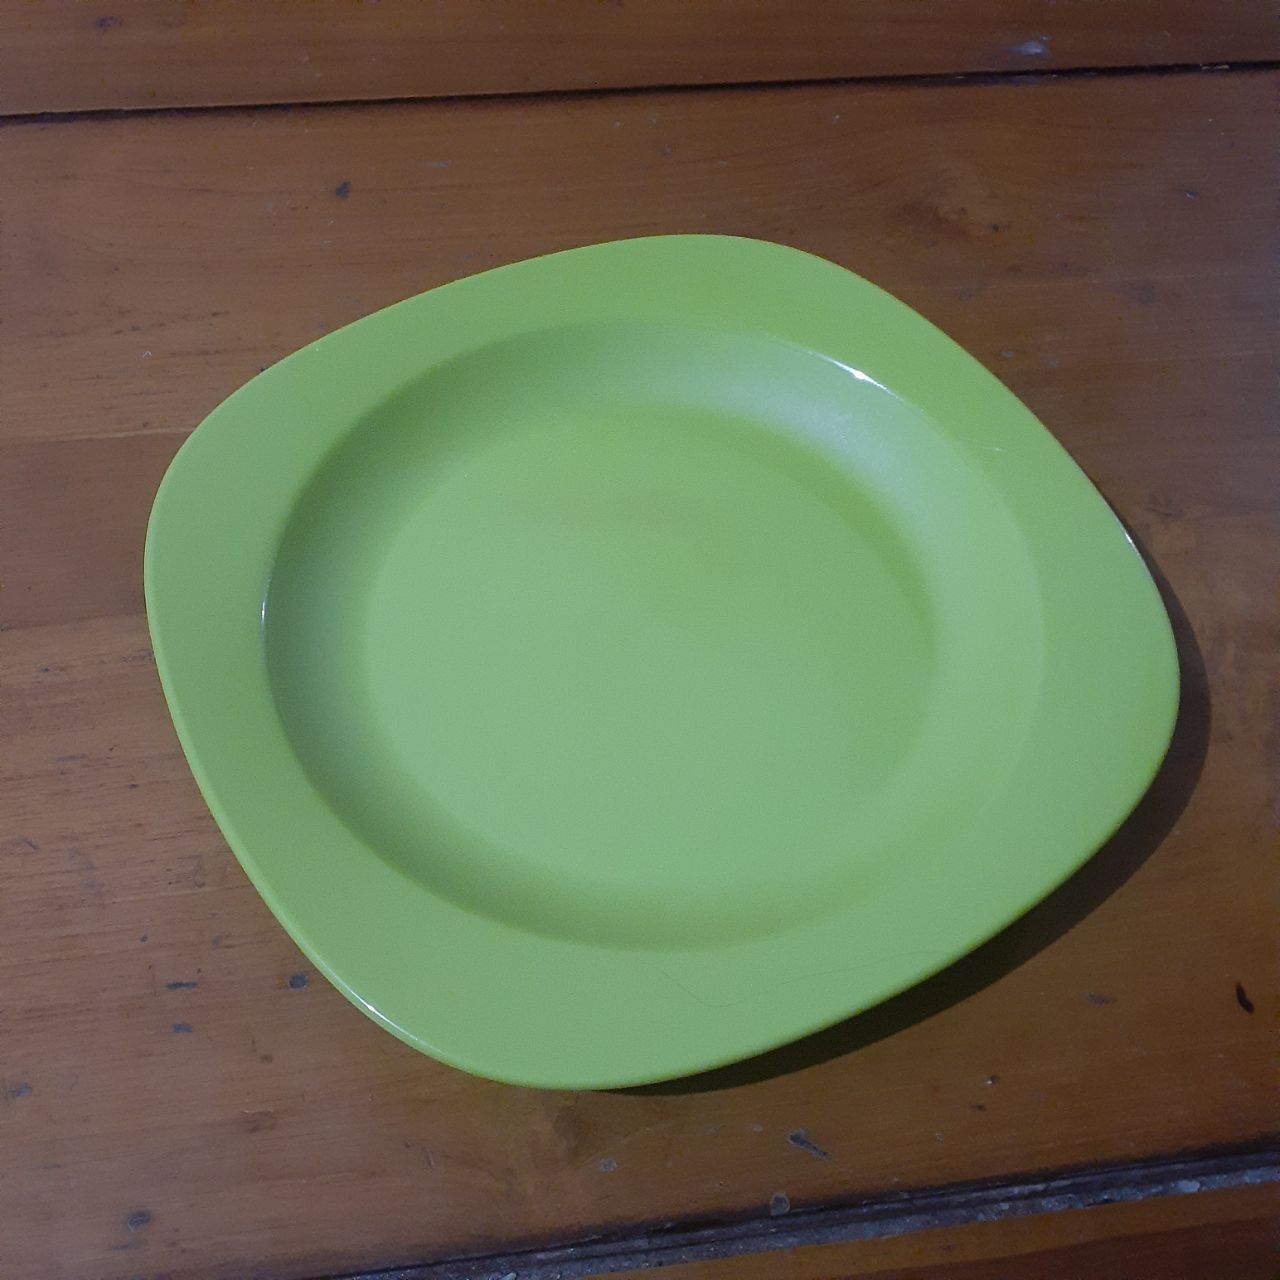piring: (136, 227, 1187, 1085)
